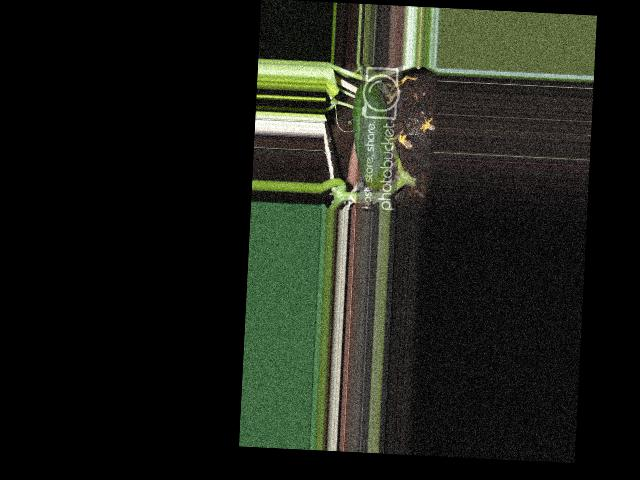cucumber: (349, 82, 394, 190)
